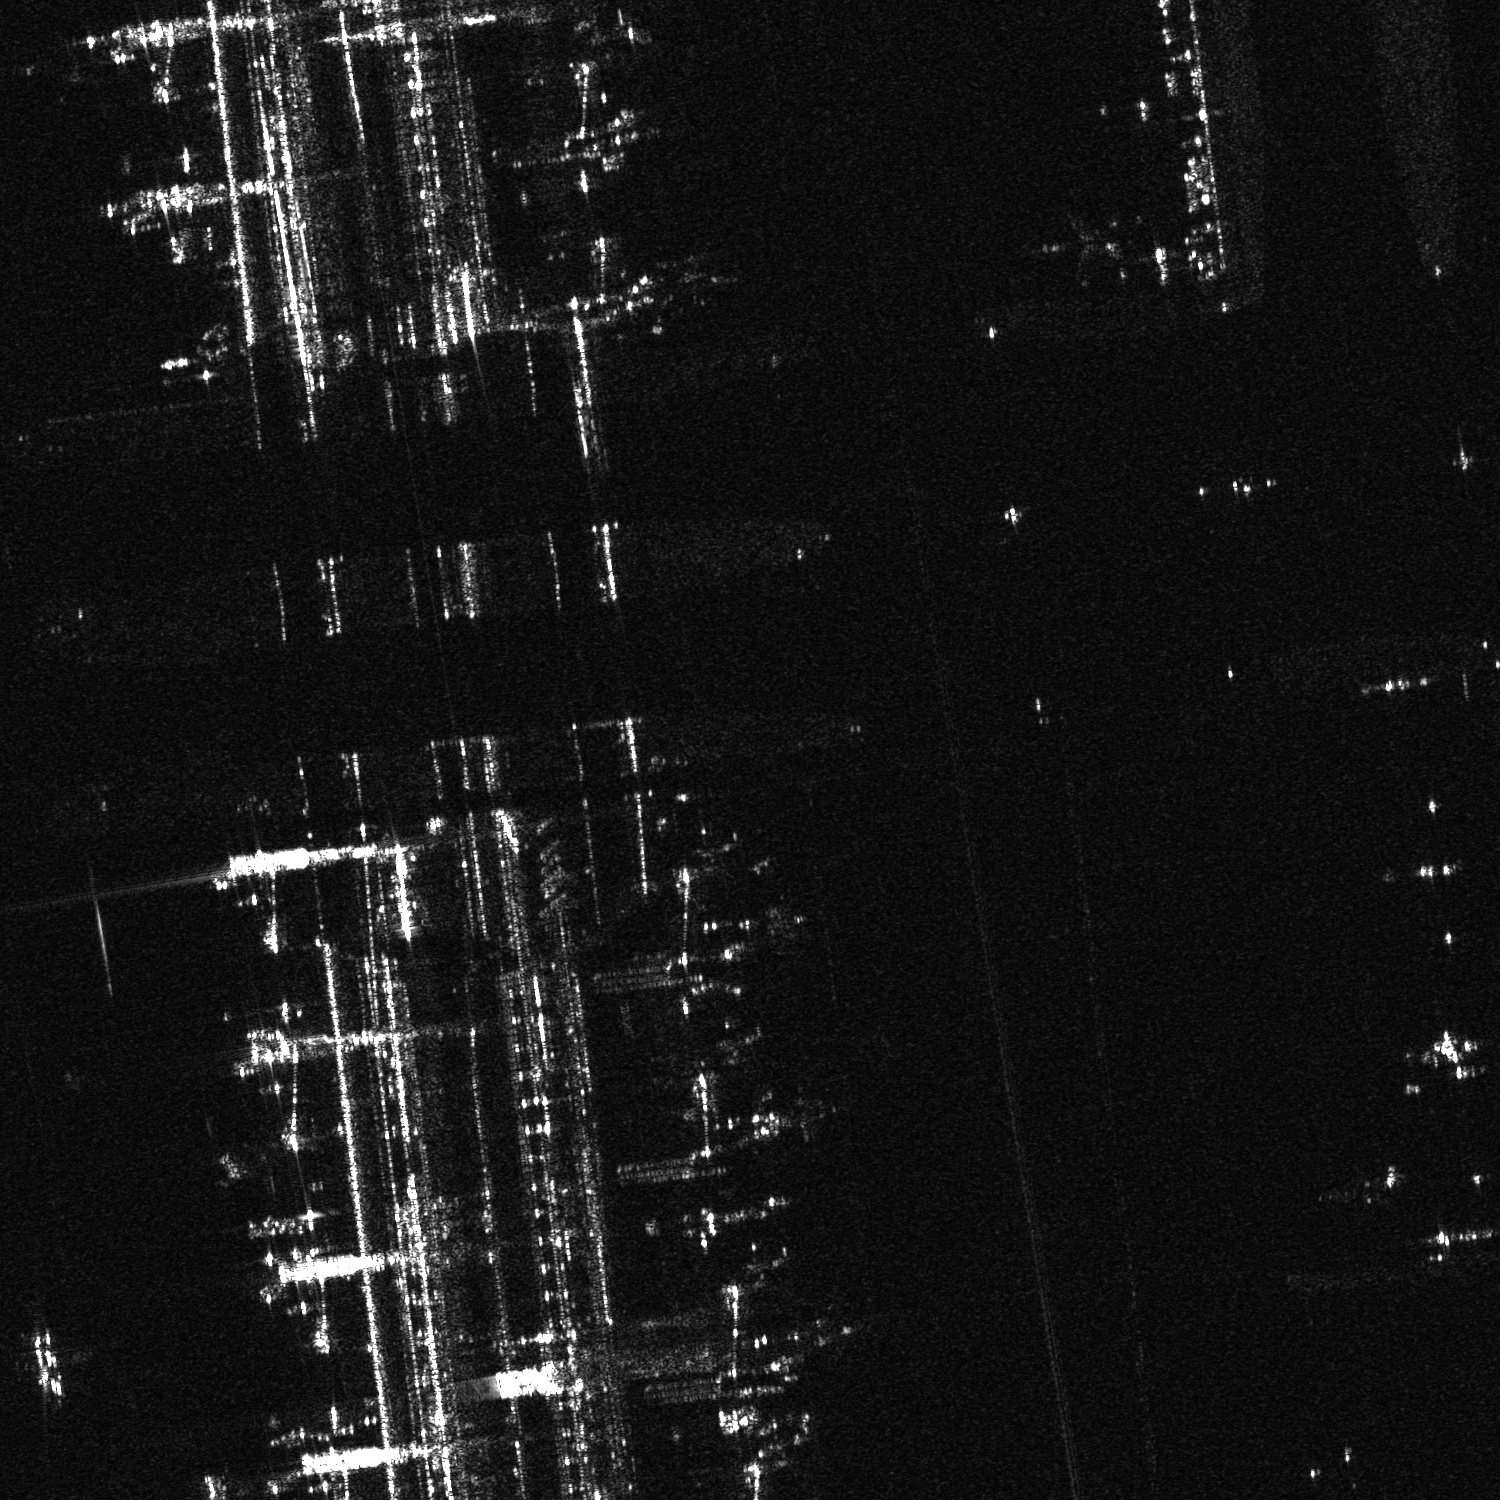A220: (1420, 1023, 1484, 1082)
Boeing737: (652, 250, 717, 308)
Boeing787: (1036, 209, 1109, 284)
